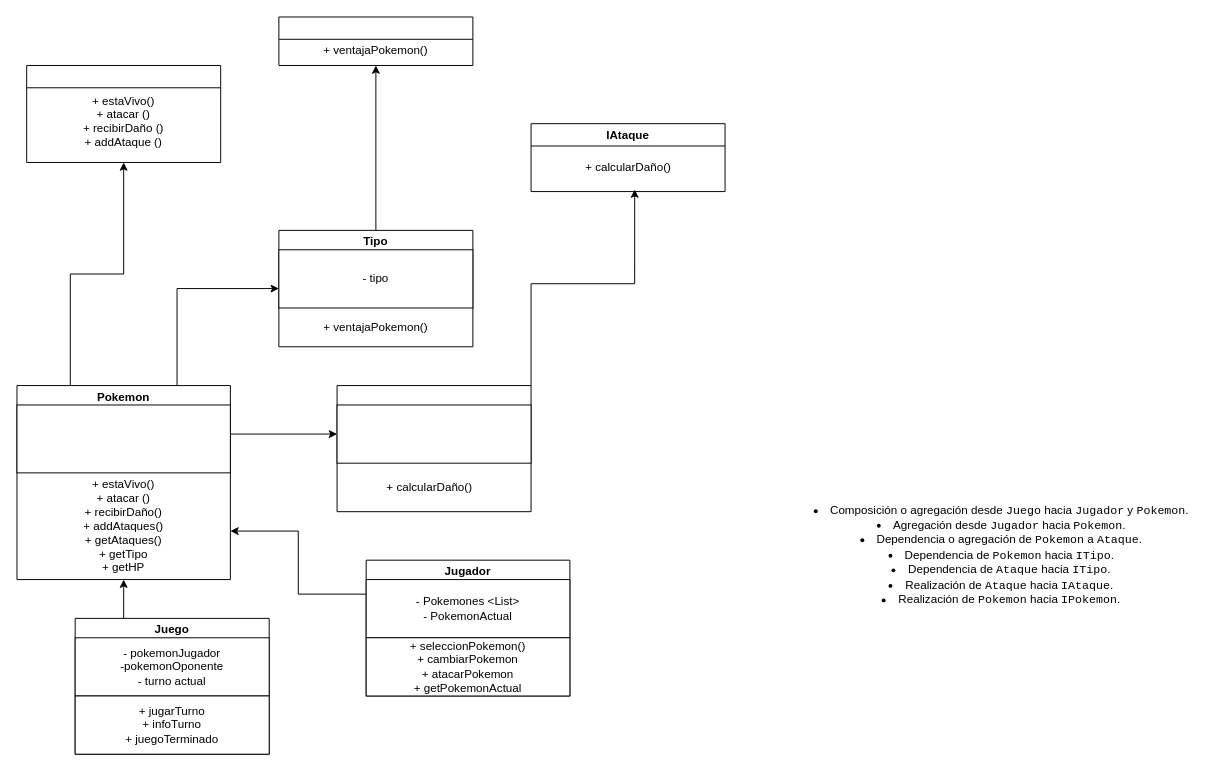
The diagram is 1217 pixels wide and 771 high, and some of its shapes have lost their labels. The box of each missing label's shape, as (x1, y1, x2, y2) in pixels:
- nombre - daño - tipo -esEspecial: (336, 404, 531, 463)
- nombre - HP - tipo - ataques: (16, 404, 230, 473)
Ataque: (336, 385, 531, 512)
IPokemon: (26, 65, 221, 162)
ITipo: (278, 16, 473, 65)
